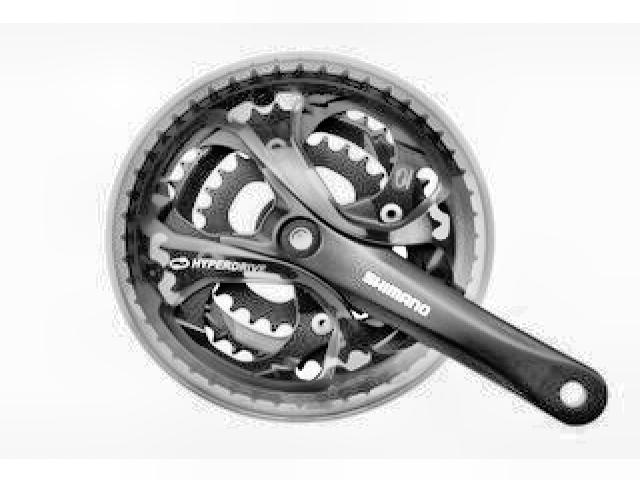cranks_set: (104, 48, 610, 432)
